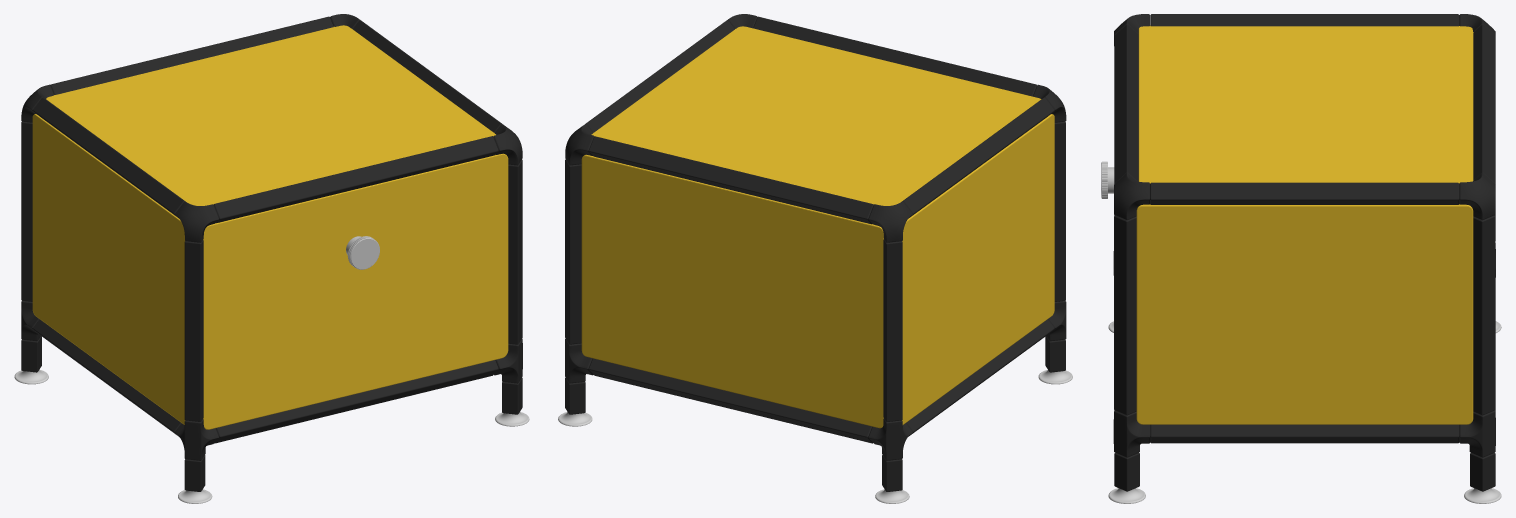
3 views of the same model, side by side, from view 1: azimuth 30°, elevation 25°; view 2: azimuth 150°, elevation 25°; view 3: azimuth 270°, elevation 25° (orthographic). The views are drawn at different scales.
Visible parts, largest first — view 1: 374x329x229; view 2: 374x329x229; view 3: 374x329x229.
Part boxes in pixels (left/top/right/bottom): 374x329x229: left=14, top=14, right=529, bottom=503; 374x329x229: left=558, top=14, right=1072, bottom=503; 374x329x229: left=1101, top=14, right=1501, bottom=503.
Size of the model in its own units: 0.4639 by 0.3683 by 0.4257.
